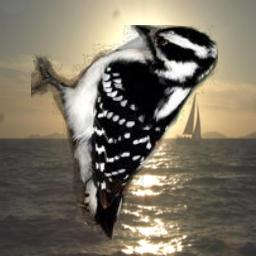Woodpecker: (31, 25, 218, 245)
